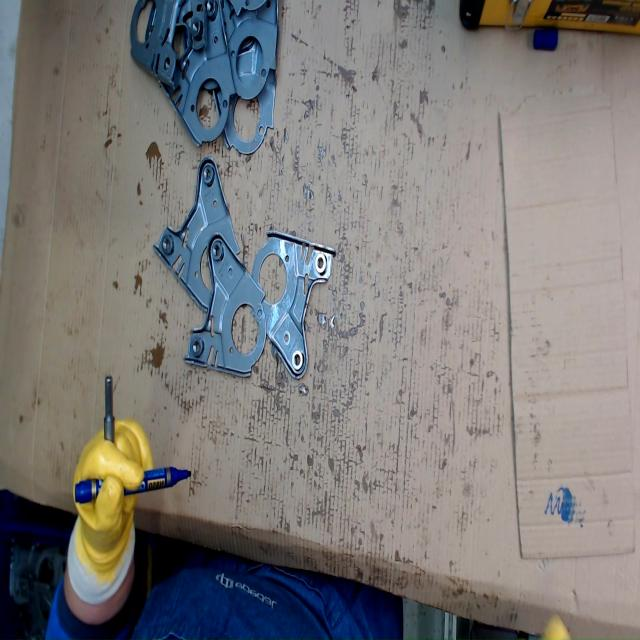hands: (70, 416, 154, 578)
